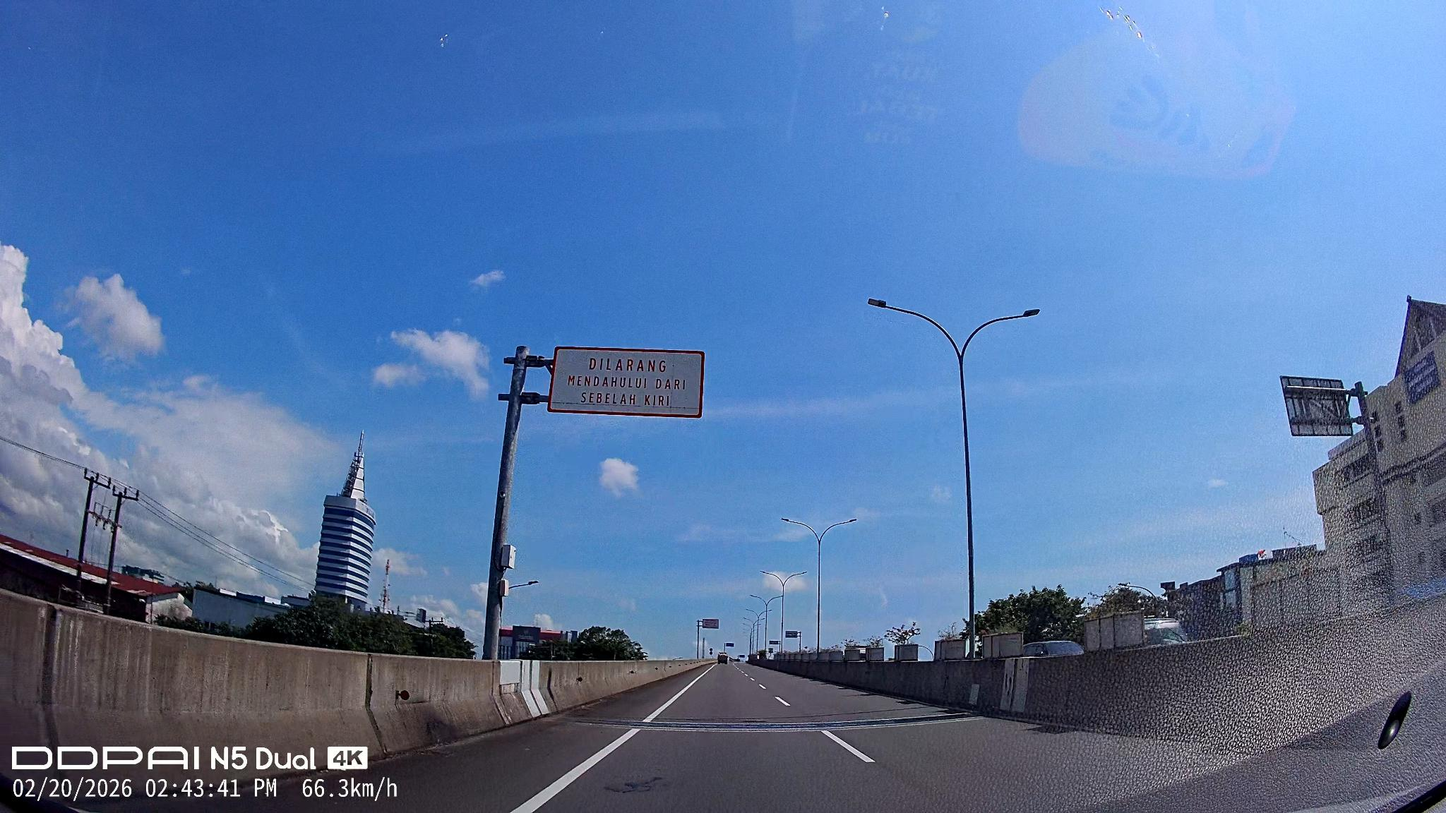rambu_teks: (548, 346, 707, 420)
